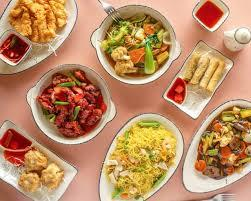Braised Crucian Carp: (99, 111, 185, 200), (26, 63, 114, 145), (91, 3, 179, 85), (180, 99, 249, 193), (0, 122, 77, 201), (0, 0, 78, 74), (161, 39, 233, 118)
